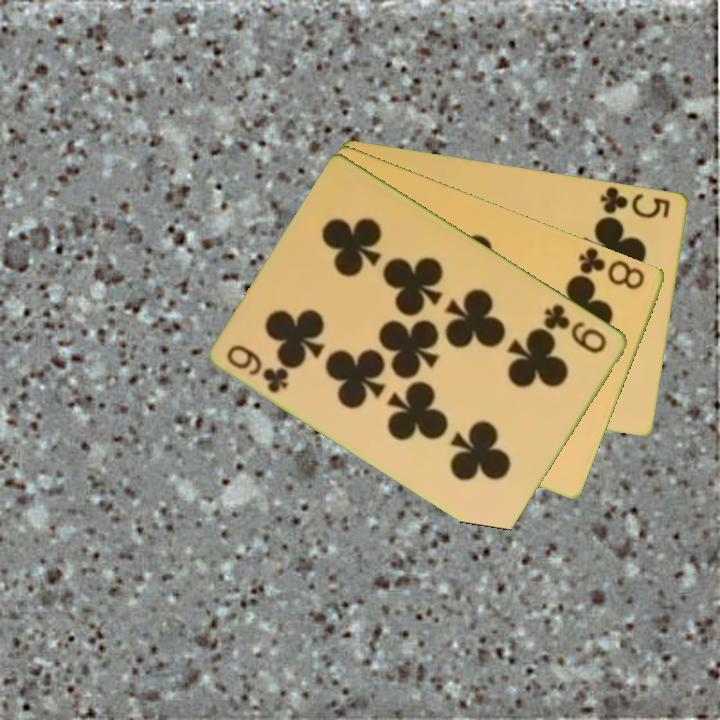5c: (597, 183, 674, 221)
8c: (574, 244, 648, 292)
9c: (540, 300, 611, 357), (223, 341, 293, 396)
